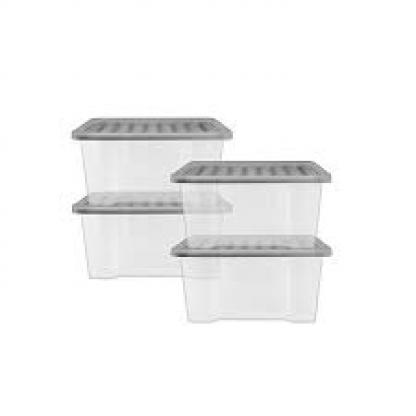plastic_box: (164, 231, 338, 333), (165, 148, 336, 250)
